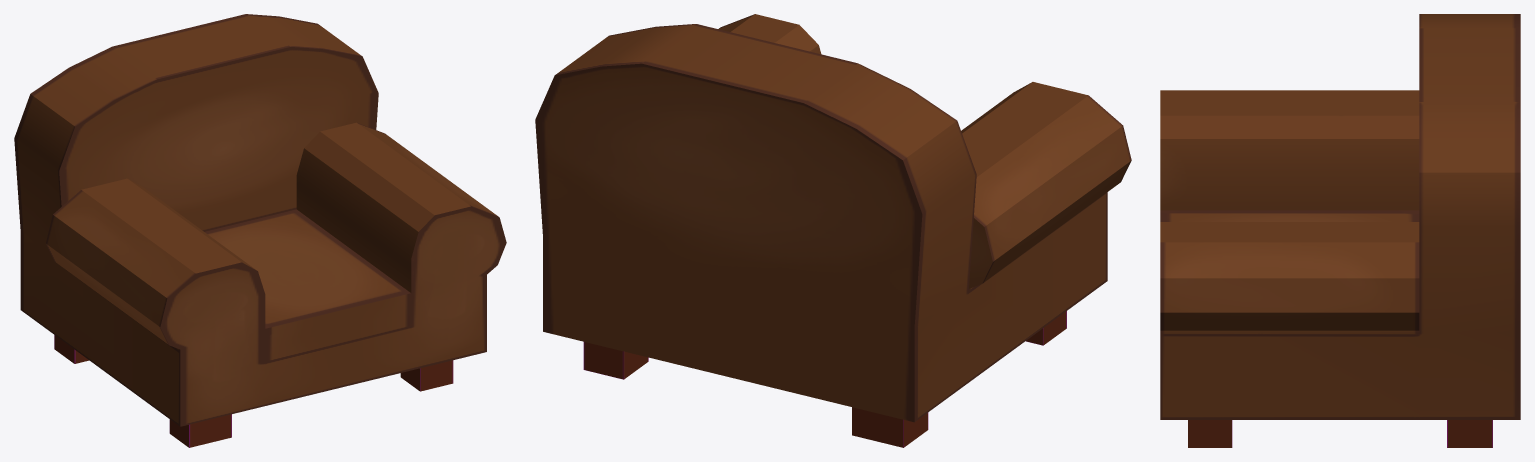
The model's file is armchair.fbx.
The picture shows the model from 3 angles, left to right: view 1: azimuth 30°, elevation 25°; view 2: azimuth 150°, elevation 25°; view 3: azimuth 270°, elevation 25°; orthographic projection. The views are drawn at different scales.
Parts seen in each view (by area): view 1: pCube1; view 2: pCube1; view 3: pCube1.
Boxes of the visible parts, bbox=[...] form: pCube1: bbox=[14, 14, 506, 447]; pCube1: bbox=[535, 14, 1131, 447]; pCube1: bbox=[1160, 14, 1520, 447].
Size of the model in its own units: 29.31 by 22.36 by 23.37.
Materials: 1 (1 with a texture image).
